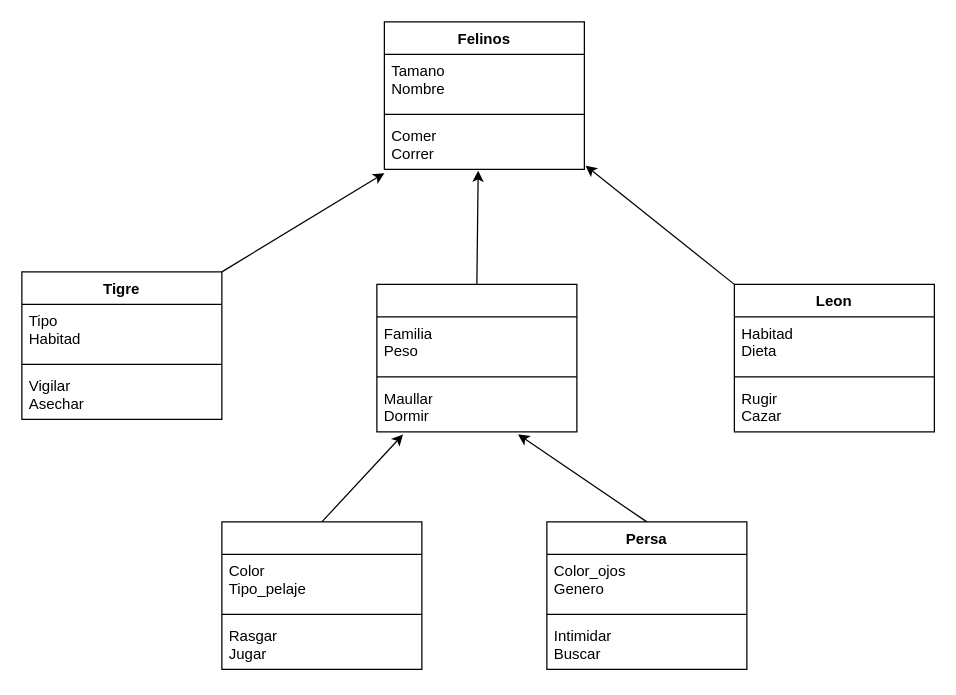
Some shapes in this 956 by 695 pixel diagram are drawn without their labels. The box of each missing label's shape, as (x1, y1, x2, y2) in pixels:
Domestico: (376, 283, 577, 432)
Siames: (221, 521, 422, 669)
